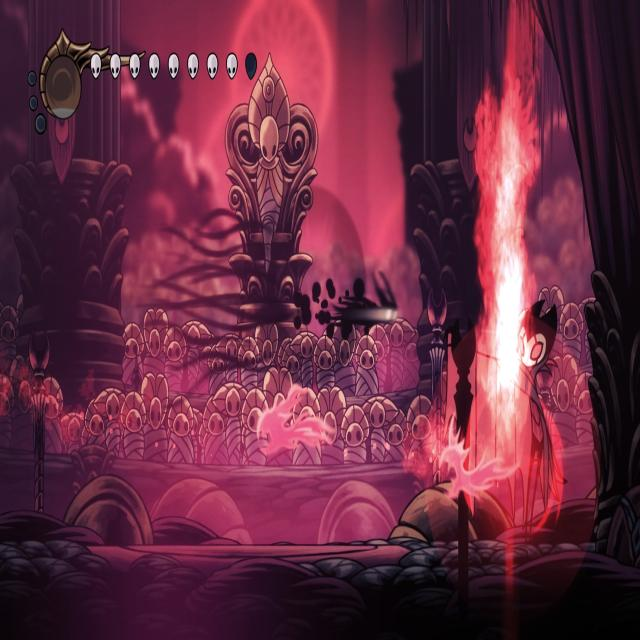Fire Bat: (438, 418, 521, 503), (256, 387, 329, 464)
Open Cloak: (445, 288, 574, 546)
Player: (332, 258, 399, 344)
